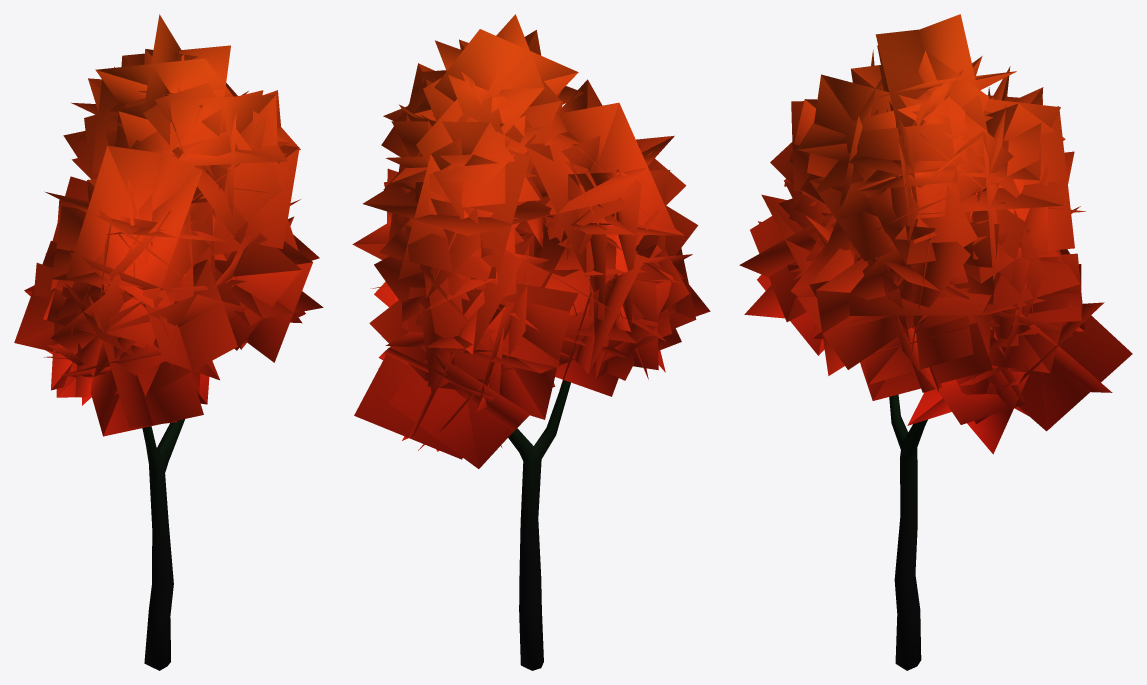
The model's file is TGV_Beech_Tree_06A.fbx.
3 renders of one model, left to right at view 1: azimuth 30°, elevation 25°; view 2: azimuth 150°, elevation 25°; view 3: azimuth 270°, elevation 25°, orthographic. The views are drawn at different scales.
Parts seen in each view (by area): view 1: TGV_Beech_Tree_06A_LOD0; view 2: TGV_Beech_Tree_06A_LOD0; view 3: TGV_Beech_Tree_06A_LOD0.
Boxes of the visible parts, <box> form: TGV_Beech_Tree_06A_LOD0: <box>14,14,323,670</box>; TGV_Beech_Tree_06A_LOD0: <box>352,14,710,670</box>; TGV_Beech_Tree_06A_LOD0: <box>739,14,1132,670</box>.
Bounding box in the file's own units: 274 × 584 × 311.
